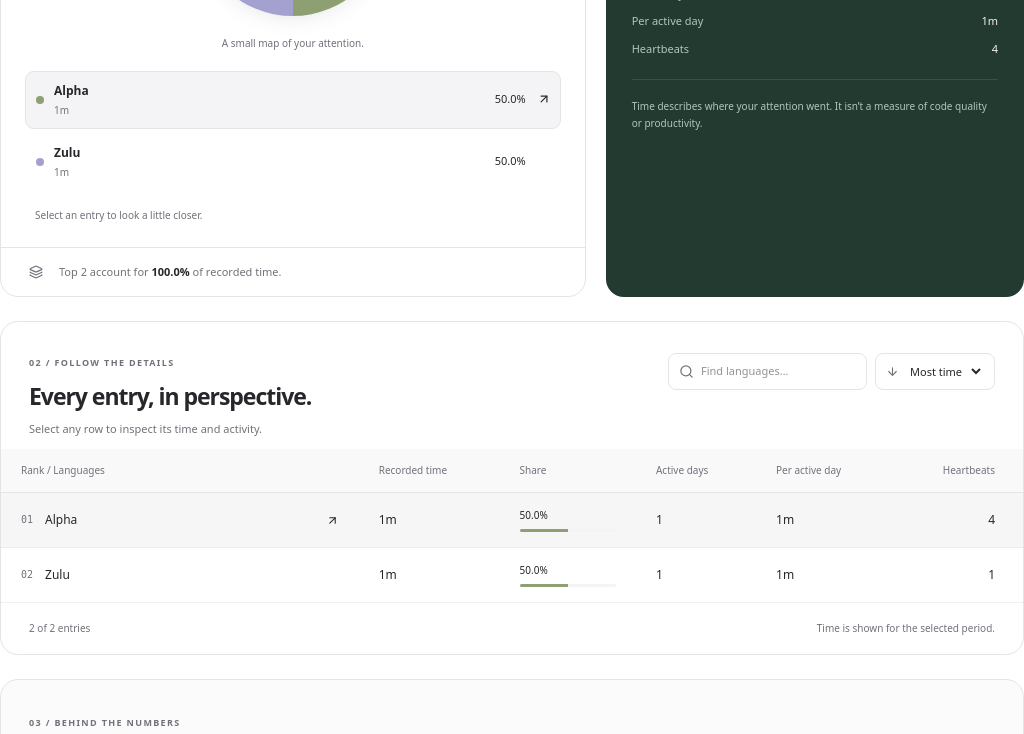
Test: sorts entries by name and heartbeat count and selects a legend entry
(page scrolled)
Select "Name A–Z" in the dropdown named "Sort entries" at (945, 372), box x1=906 y1=363 x2=984 y2=380
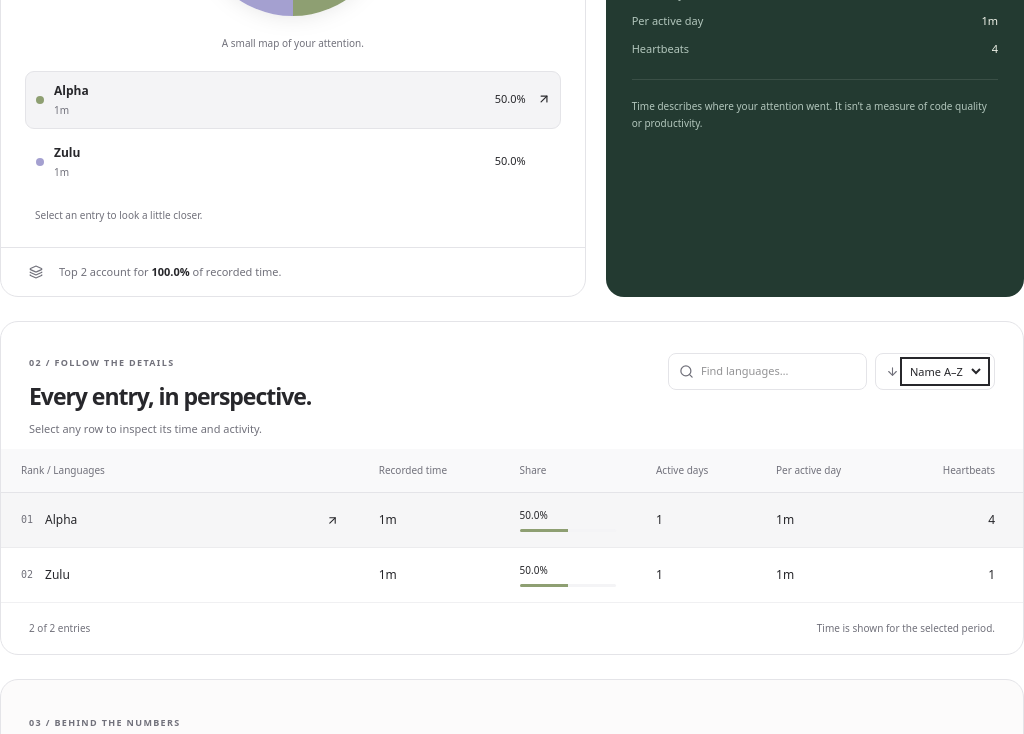
Check: the row "01 Alpha 1m 50.0% 1 1m 4" is shown, box x1=1 y1=493 x2=1023 y2=548
Select "Heartbeats" in the dropdown named "Sort entries" at (945, 372), box x1=906 y1=363 x2=984 y2=380
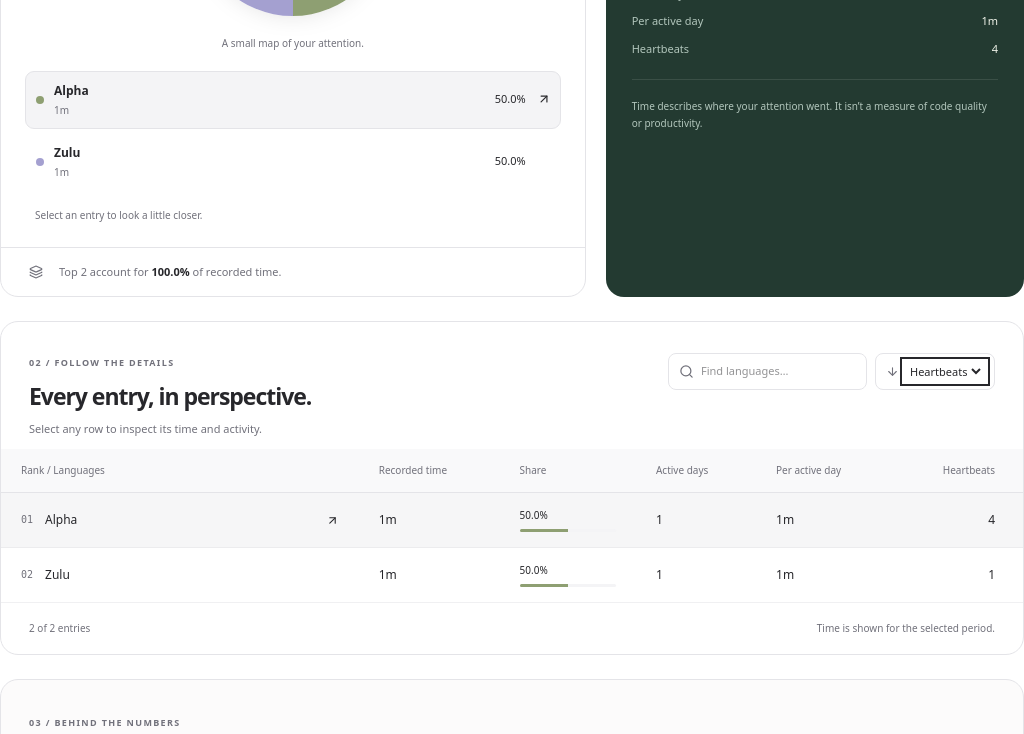
Check: the row "01 Alpha 1m 50.0% 1 1m 4" is shown, box x1=1 y1=493 x2=1023 y2=548
Select "Active days" in the dropdown named "Sort entries" at (945, 372), box x1=906 y1=363 x2=984 y2=380
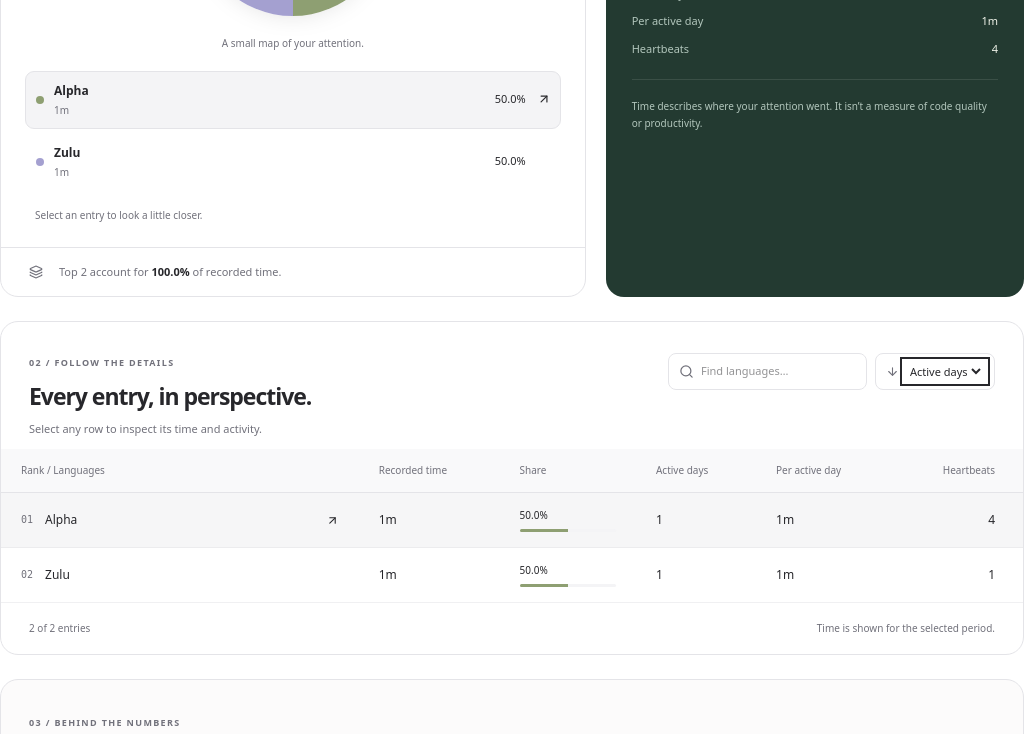
Check: the row "01 Alpha 1m 50.0% 1 1m 4" is shown, box x1=1 y1=493 x2=1023 y2=548
Click the button "Zulu 1m 50.0%" at (40, 162), box x1=25 y1=133 x2=561 y2=191
(page scrolled)
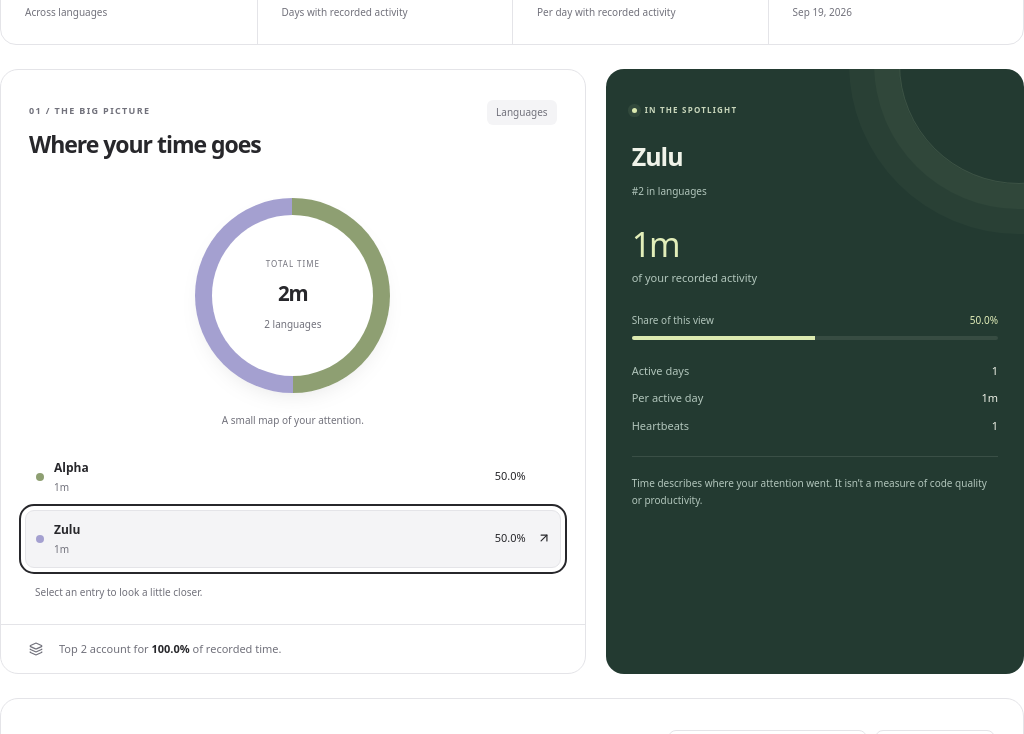
Check: the element named "Selected insight" shows "Zulu", box x1=632 y1=139 x2=683 y2=173
